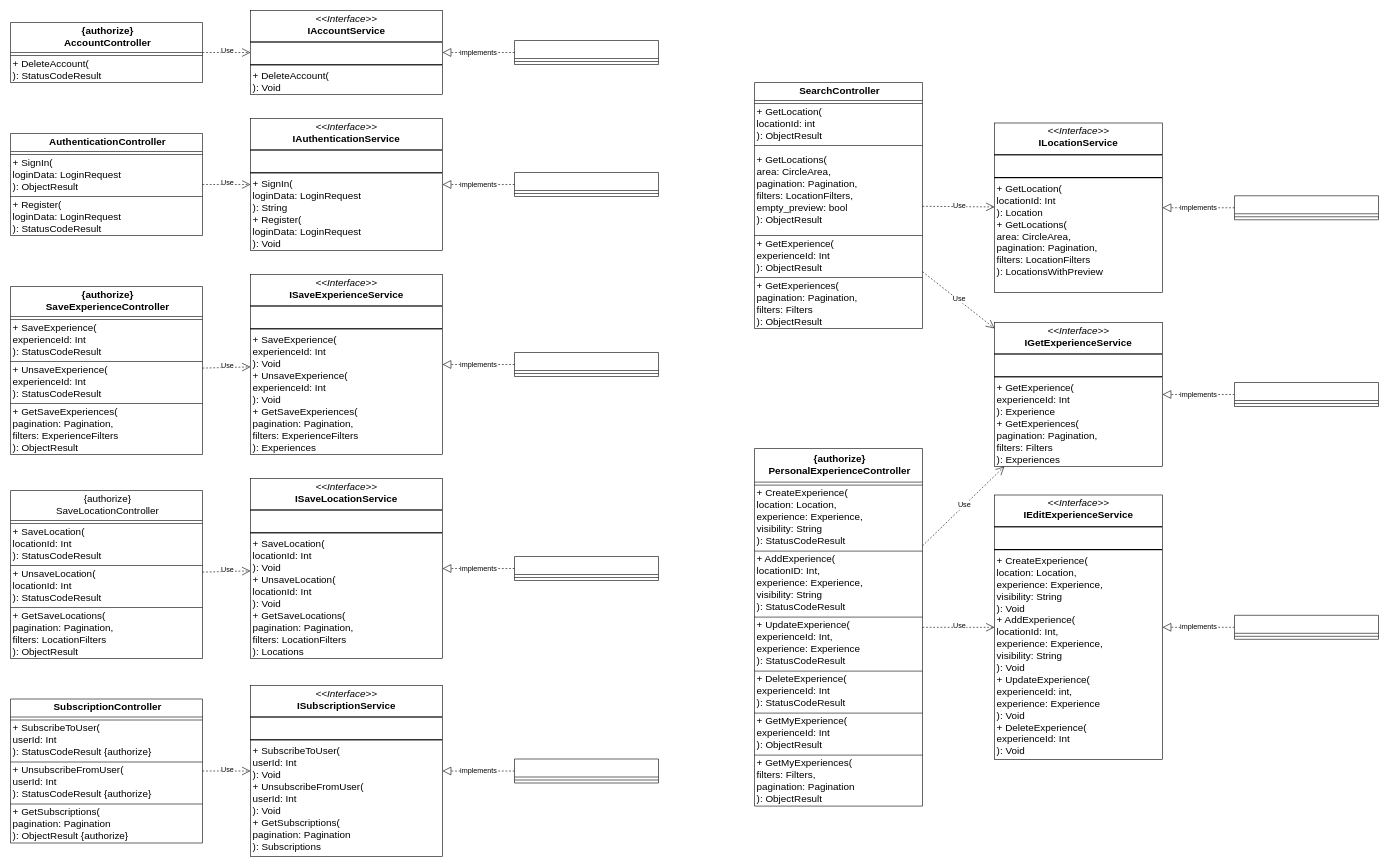
Some shapes in this 1389 by 867 pixel diagram are drawn without their labels. The centre of each missing label's shape, as x and y in pixels:
"AccountService" belongs at point 586,52.
"AuthenticationService" belongs at point 586,184.
"EditExperienceService" belongs at point 1306,627.
"GetExperienceService" belongs at point 1306,394.
"LocationService" belongs at point 1306,207.
"SaveExperienceService" belongs at point 586,364.
"SaveLocationService" belongs at point 586,568.
"SubscriptionService" belongs at point 586,770.
